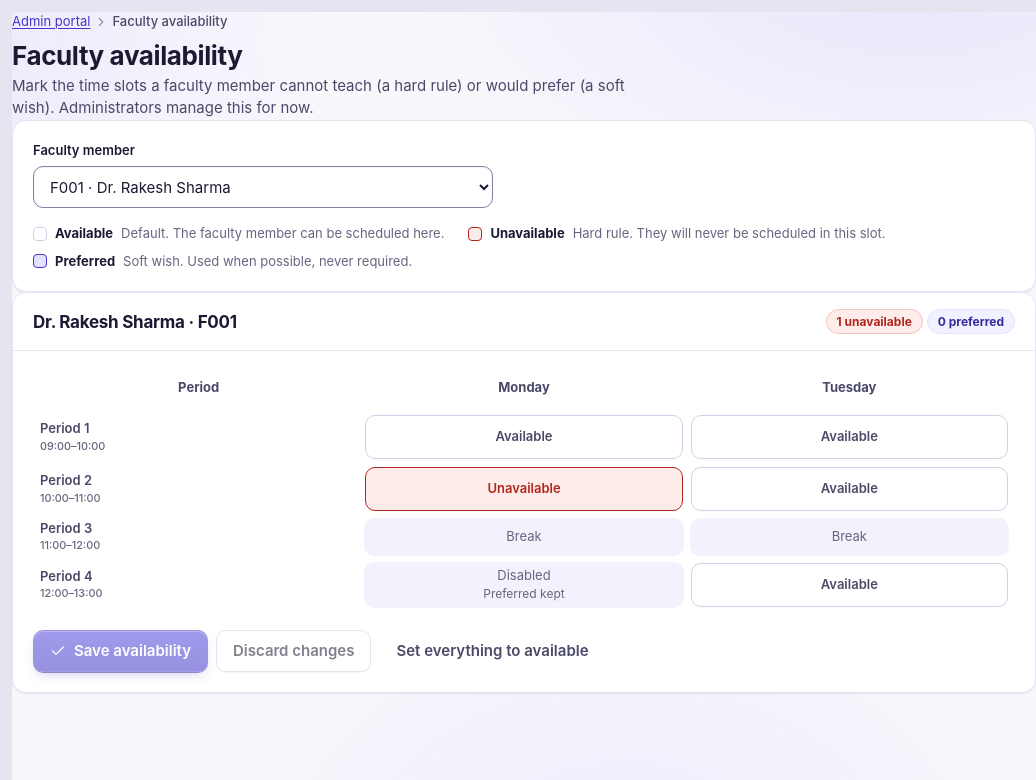
Test case: Availability screen - editing (ISH-TC09..TC11) › saves only the non-default settings of editable slots, then shows a toast and clears the unsaved flag
Click the button with aria-label "Tuesday period 1," at (849, 437), box [691,415,1008,459]
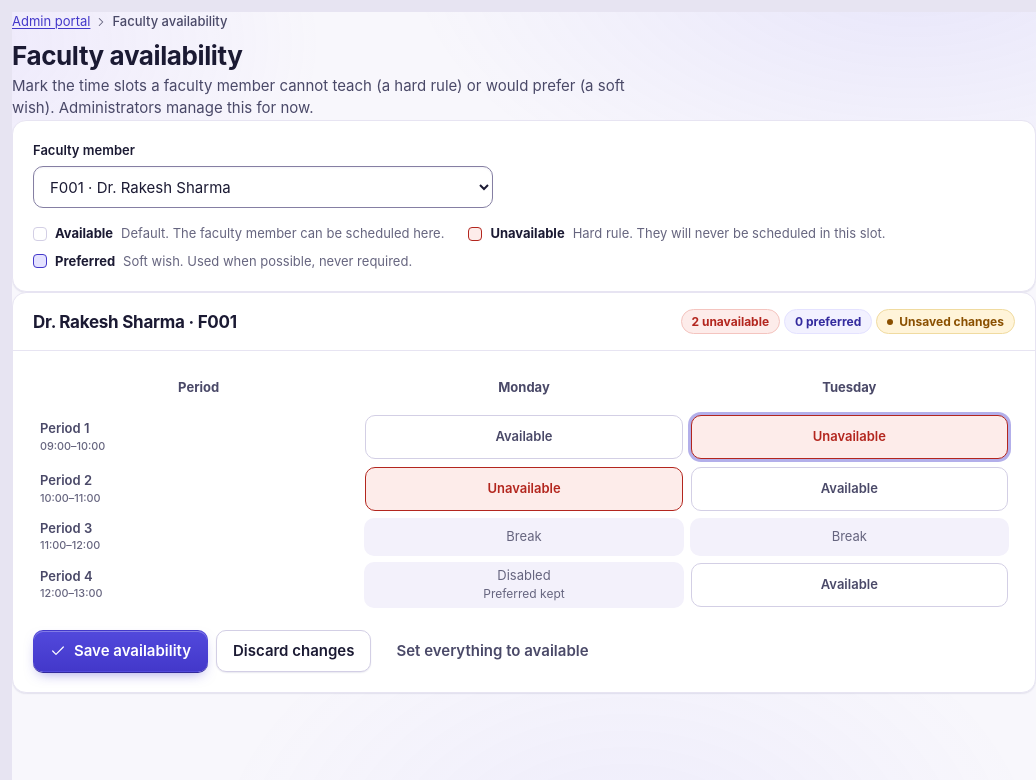
Click the button with aria-label "Tuesday period 1," at (849, 437), box [691,415,1008,459]
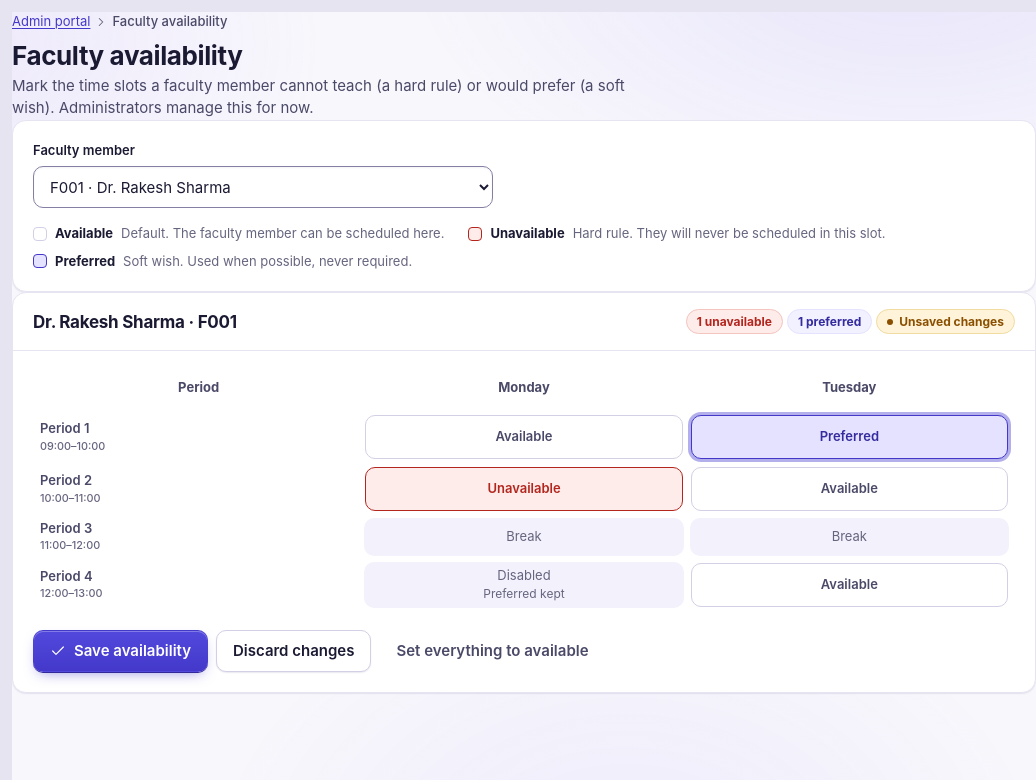
Click the button "Save availability" at (120, 651), box [33,630,208,672]
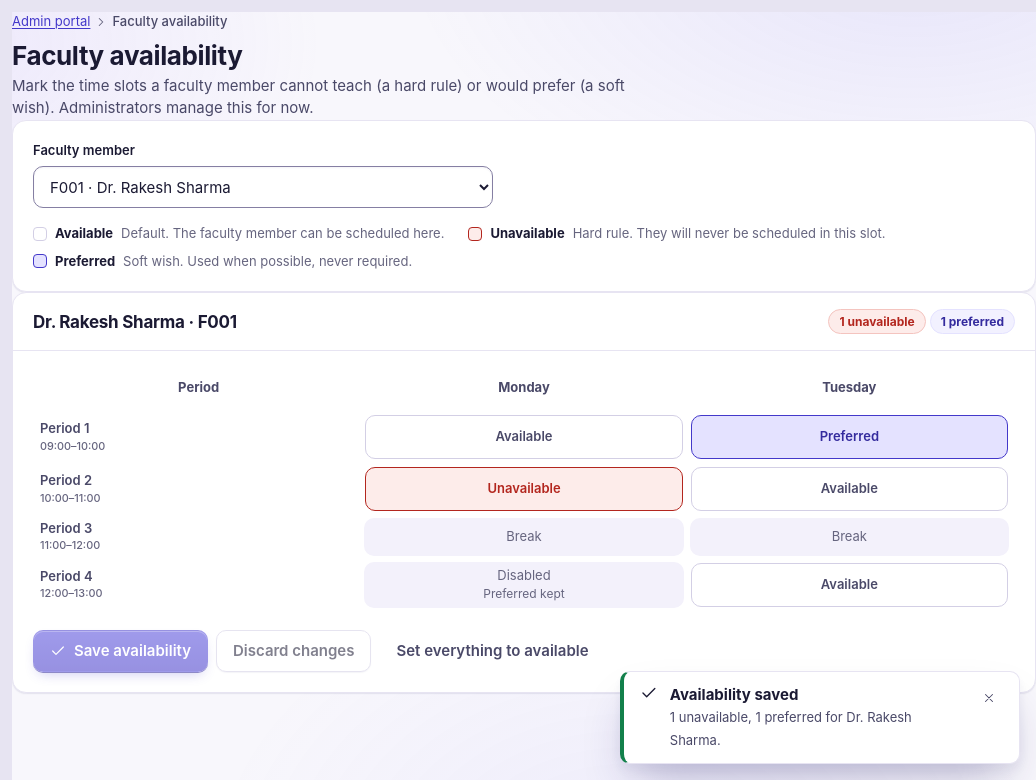
Expected: the text "Availability saved" is shown, [670,684,798,704]
Expected: the text "Unsaved changes" is gone
Expected: the button "Save availability" is disabled, [33,630,208,672]
